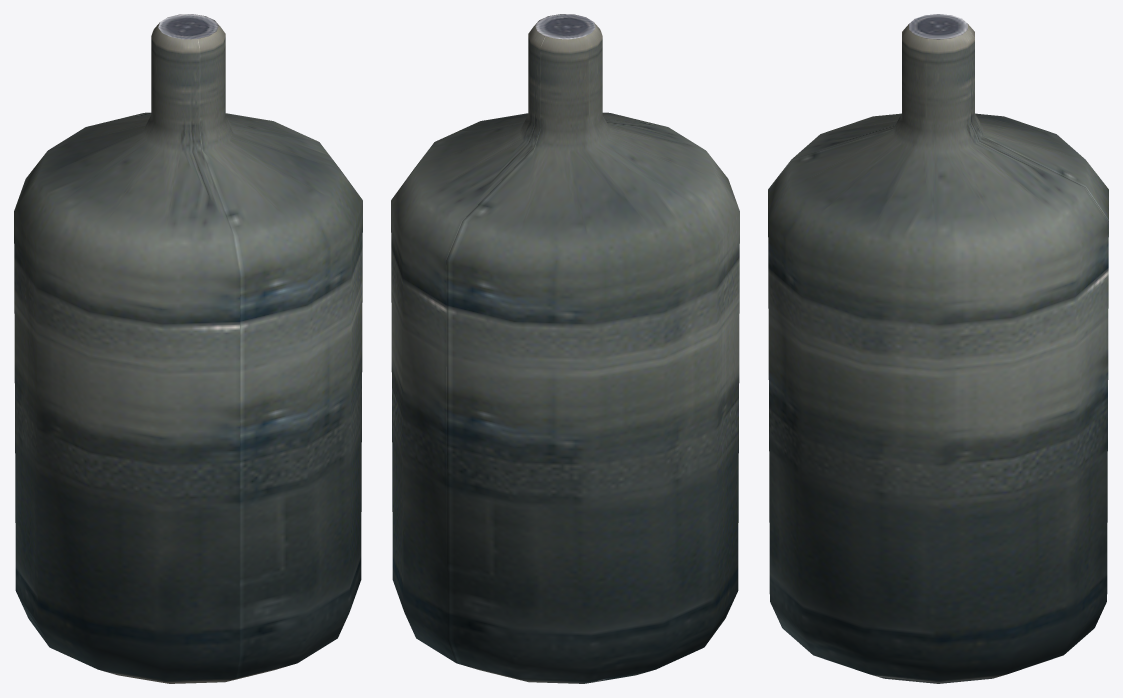
Rendered from water_jug-1.FBX.
3 views of the same model, side by side, from view 1: azimuth 30°, elevation 25°; view 2: azimuth 150°, elevation 25°; view 3: azimuth 270°, elevation 25° (orthographic).
Visible parts, largest first — view 1: waterjug-1_LOD0; view 2: waterjug-1_LOD0; view 3: waterjug-1_LOD0.
Boxes of the visible parts, x1=… form: waterjug-1_LOD0: x1=14, y1=14, x2=362, y2=683; waterjug-1_LOD0: x1=391, y1=14, x2=739, y2=683; waterjug-1_LOD0: x1=768, y1=14, x2=1108, y2=683.
Size of what is drawn, in the model's own units: 13.79 by 26.3 by 13.44.
